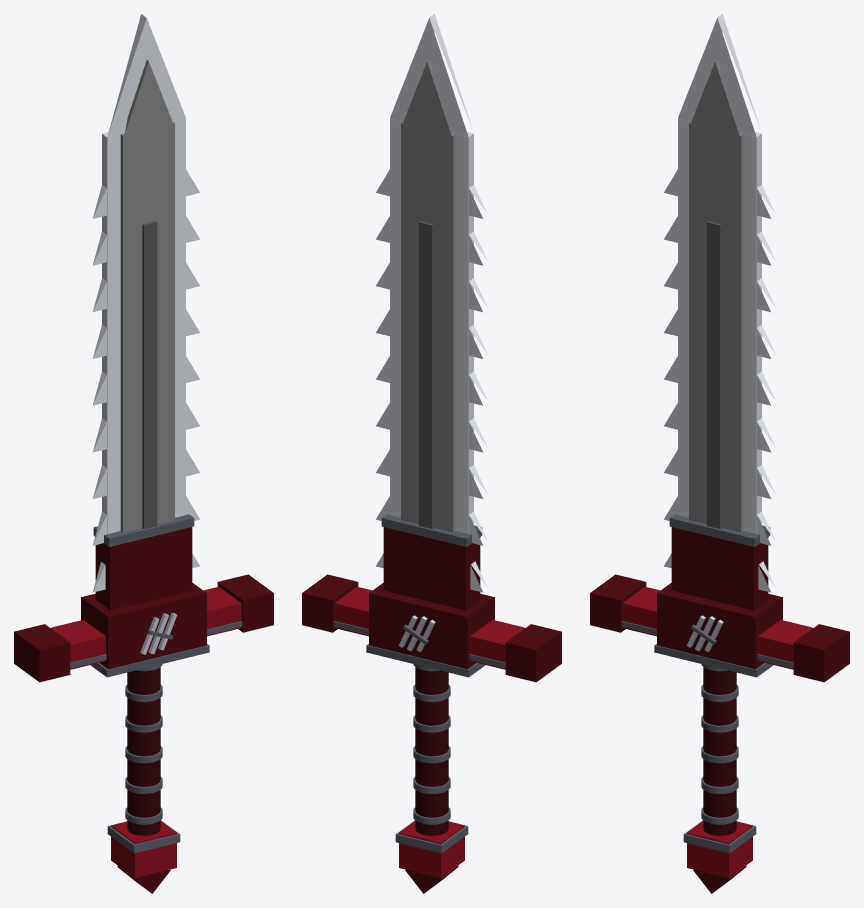
3 renders of one model, left to right at view 1: azimuth 30°, elevation 25°; view 2: azimuth 150°, elevation 25°; view 3: azimuth 330°, elevation 25°, orthographic.
Visible parts, largest first — view 1: bloodrage-claymore; view 2: bloodrage-claymore; view 3: bloodrage-claymore.
Boxes of the visible parts, left/top/right/bottom form: bloodrage-claymore: left=14, top=14, right=273, bottom=893; bloodrage-claymore: left=302, top=14, right=561, bottom=893; bloodrage-claymore: left=590, top=14, right=849, bottom=893.
Size of the model in its own units: 0.4049 by 1.44 by 0.1025.
